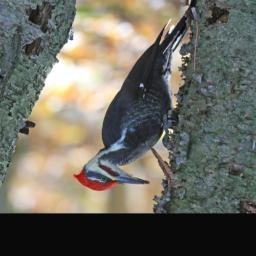Woodpecker: (72, 0, 195, 193)
